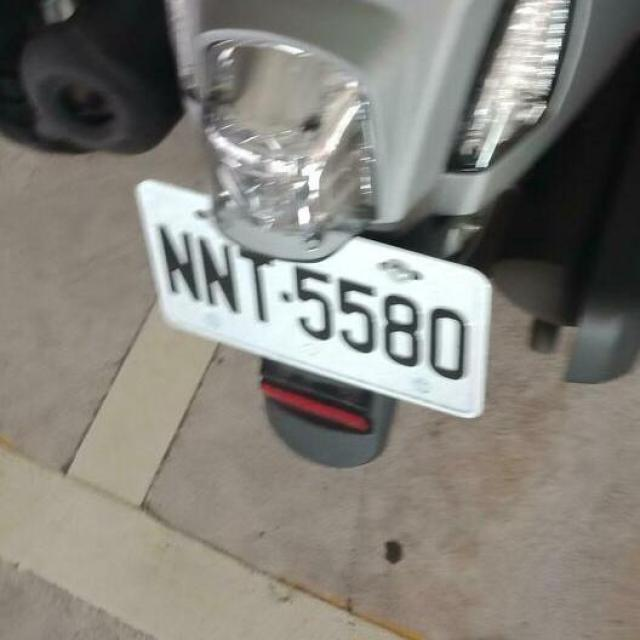W: (119, 183, 515, 436)
